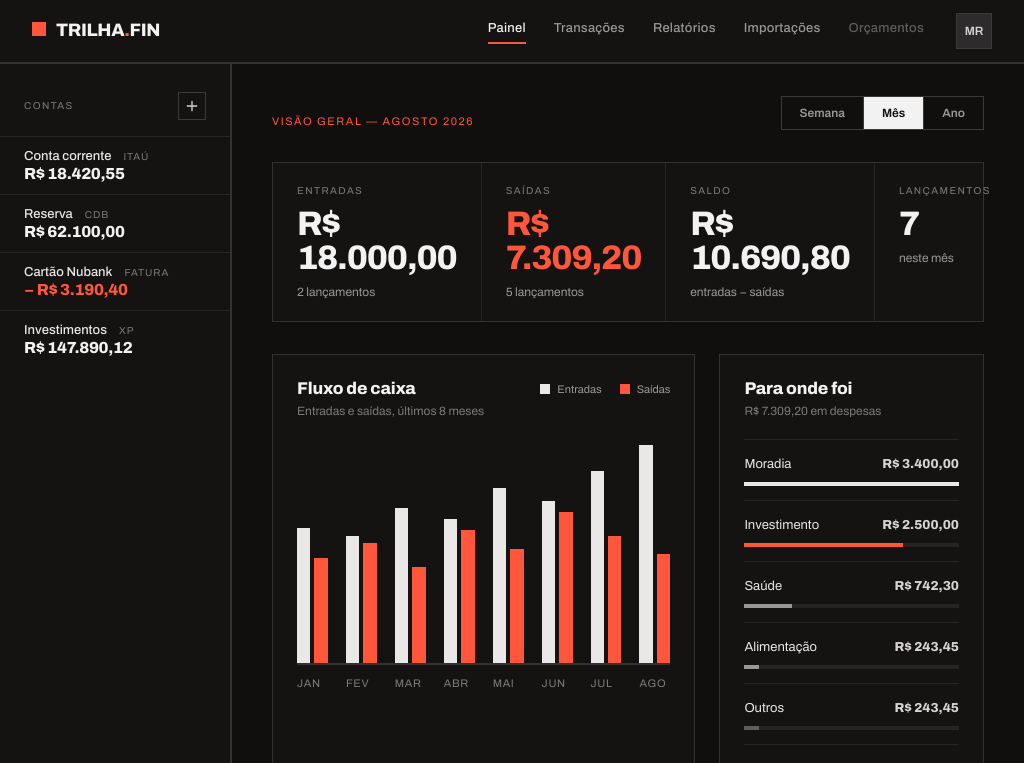
Test: ProfileModal › valida o CPF
Click the button with aria-label "menu do usuário".
click(974, 31)  # box top-left (956, 13), bottom-right (992, 49)
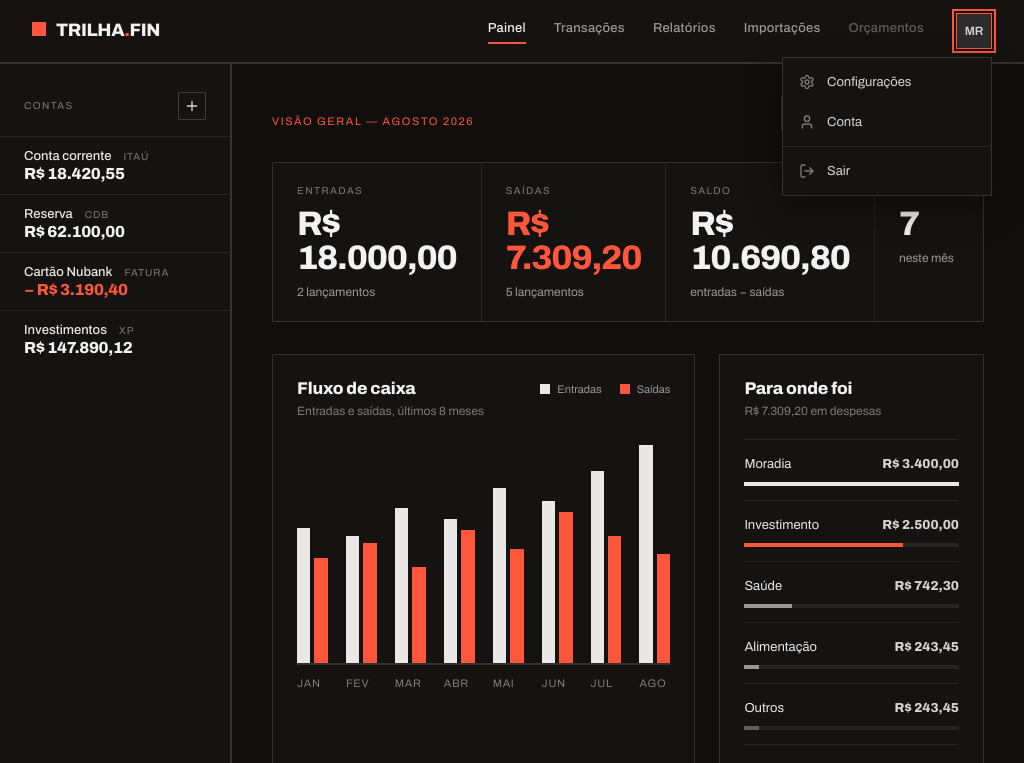
Click the menu item "Conta".
click(887, 122)  # box top-left (783, 102), bottom-right (991, 142)
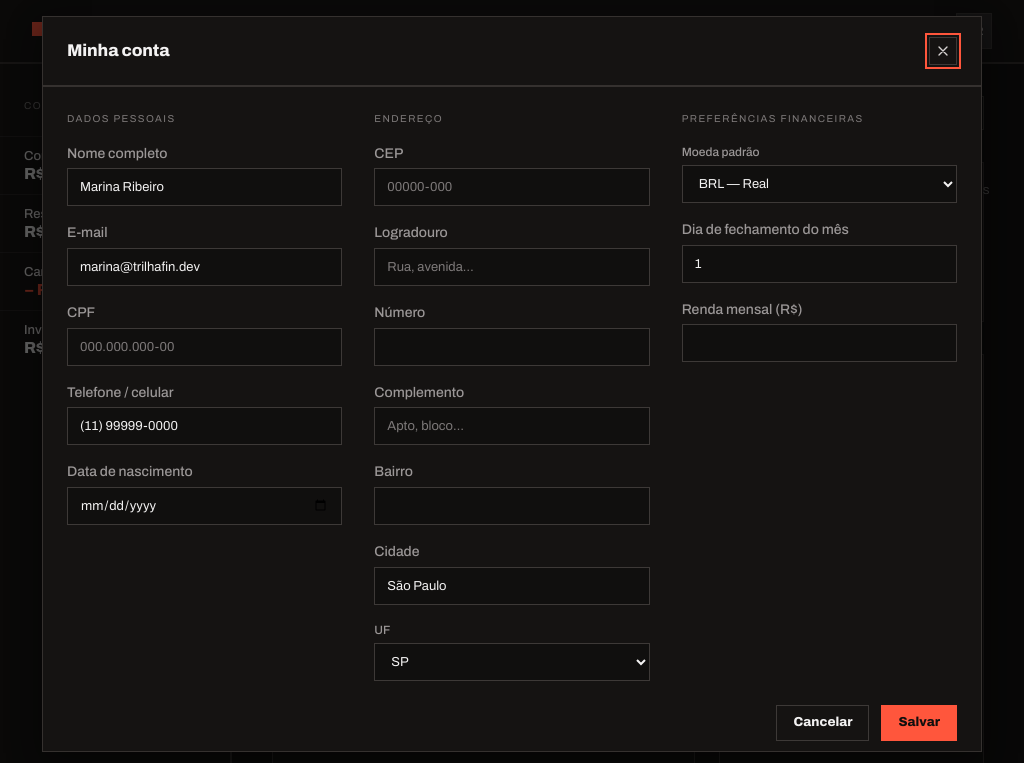
Type "111.111.111-11" into the field labelled "CPF".
click(205, 347); type("111.111.111-11")  # box top-left (67, 328), bottom-right (342, 366)
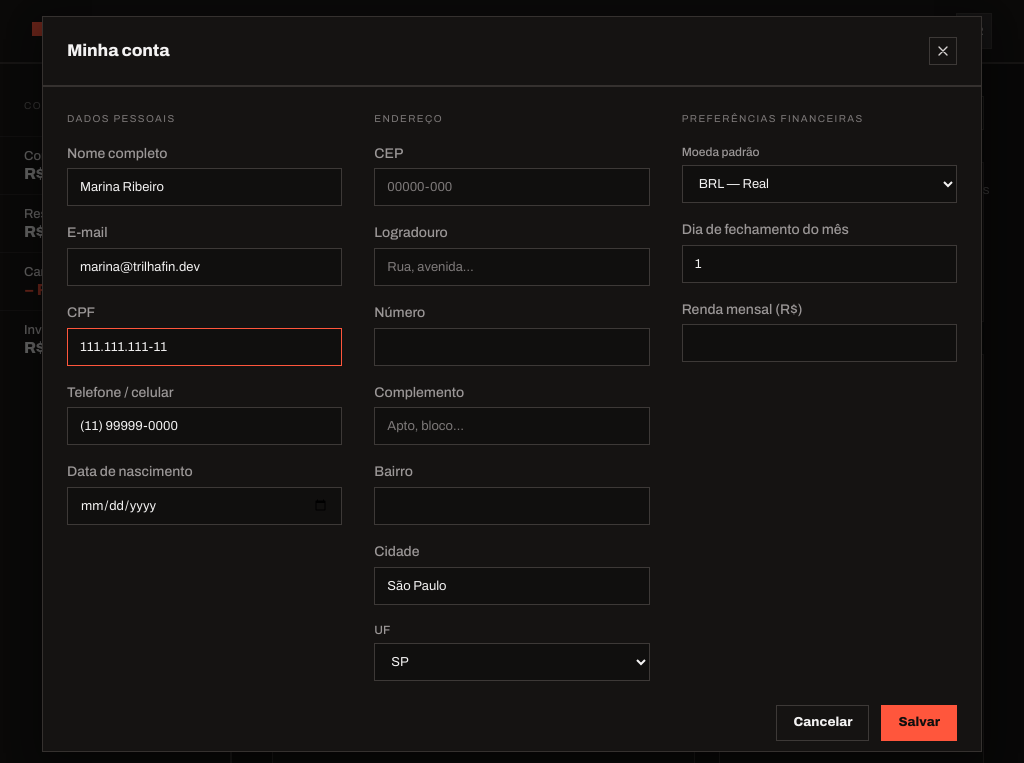
Click the button "Salvar".
click(919, 723)  # box top-left (882, 705), bottom-right (957, 741)
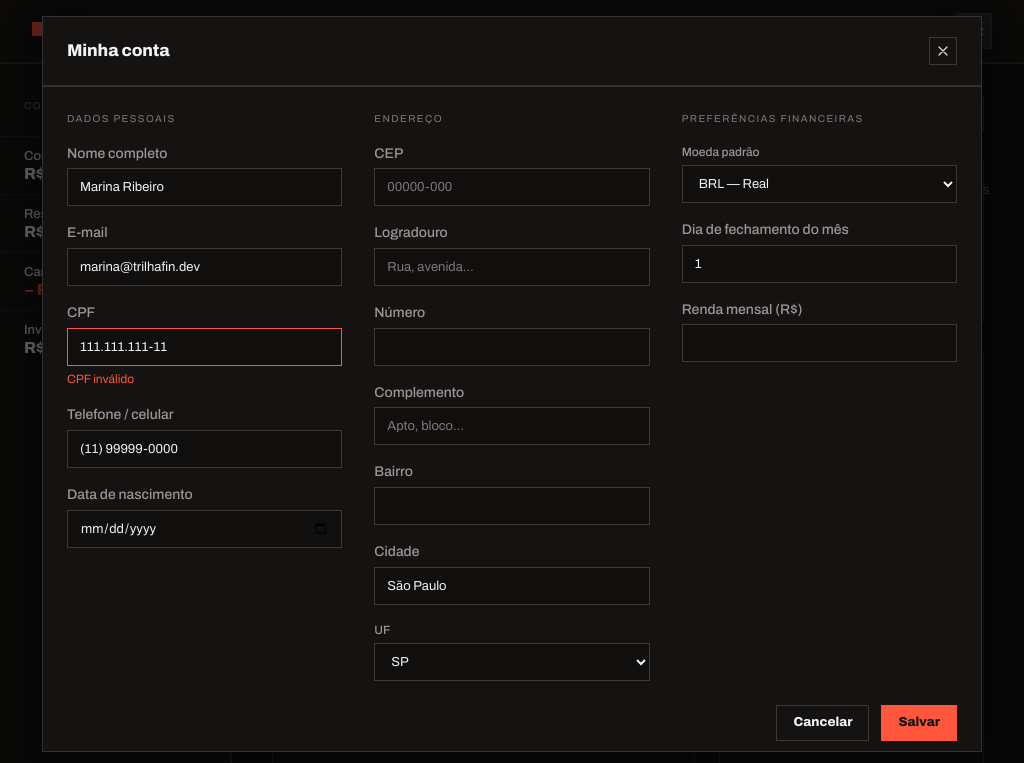
Check: the text "CPF inválido" is shown, box top-left (67, 372), bottom-right (134, 386)
